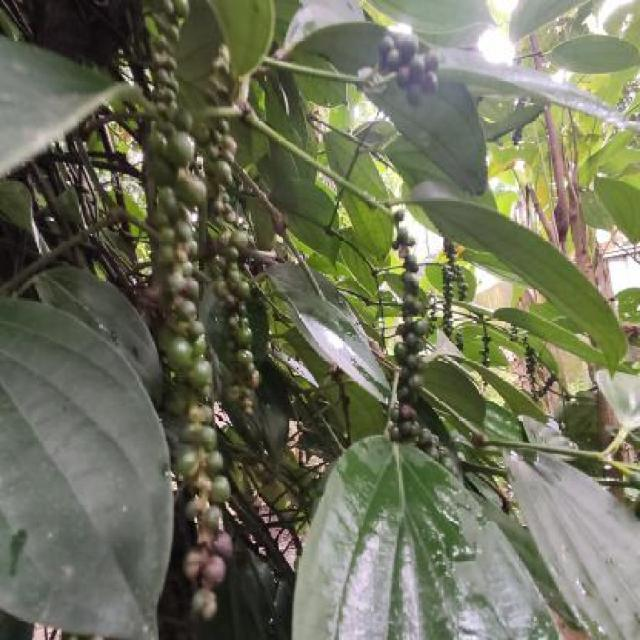UNRIPE: (155, 136, 227, 622), (213, 116, 262, 410), (392, 209, 428, 448), (150, 1, 190, 132), (381, 32, 442, 103), (441, 236, 468, 335), (526, 340, 540, 400), (481, 336, 493, 390), (512, 127, 521, 147)
